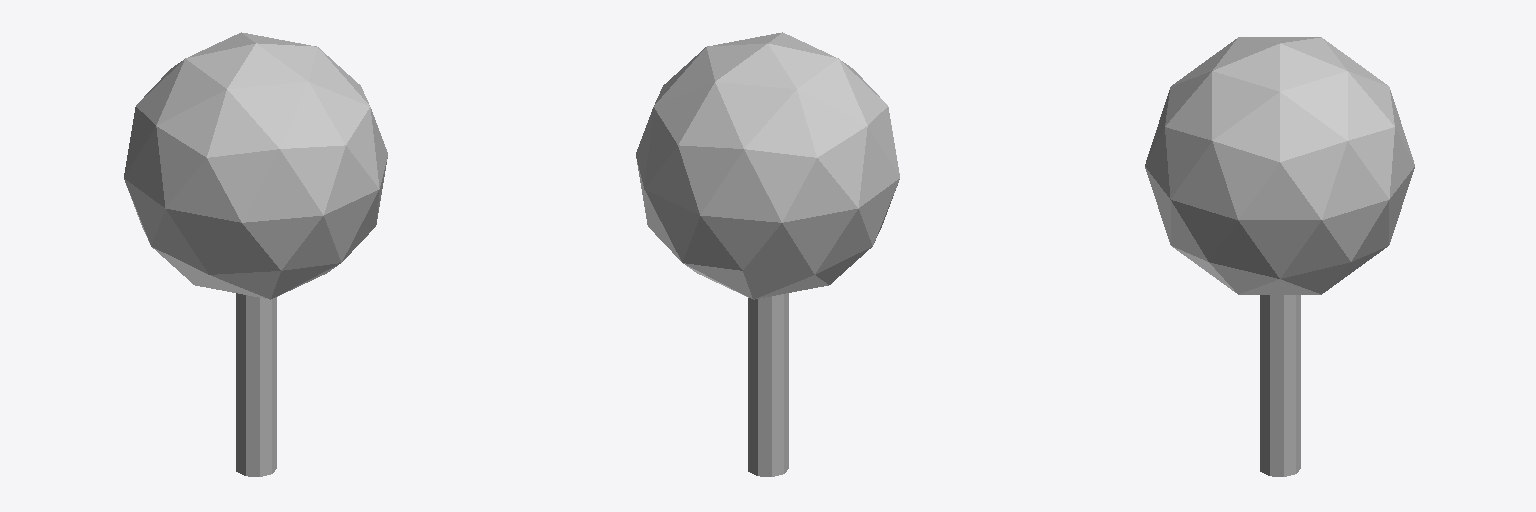
Rendered from Simple_Tree_4.obj.
The picture shows the model from 3 angles: view 1: azimuth 30°, elevation 25°; view 2: azimuth 150°, elevation 25°; view 3: azimuth 270°, elevation 25°; orthographic projection.
Parts seen in each view (by area): view 1: Simple_Tree_4_Cylinder.001; view 2: Simple_Tree_4_Cylinder.001; view 3: Simple_Tree_4_Cylinder.001.
Boxes of the visible parts, <box> form: Simple_Tree_4_Cylinder.001: <box>124,32,387,476</box>; Simple_Tree_4_Cylinder.001: <box>636,32,899,476</box>; Simple_Tree_4_Cylinder.001: <box>1145,37,1414,476</box>.
Bounding box in the file's own units: 3.07 × 5.59 × 3.23.